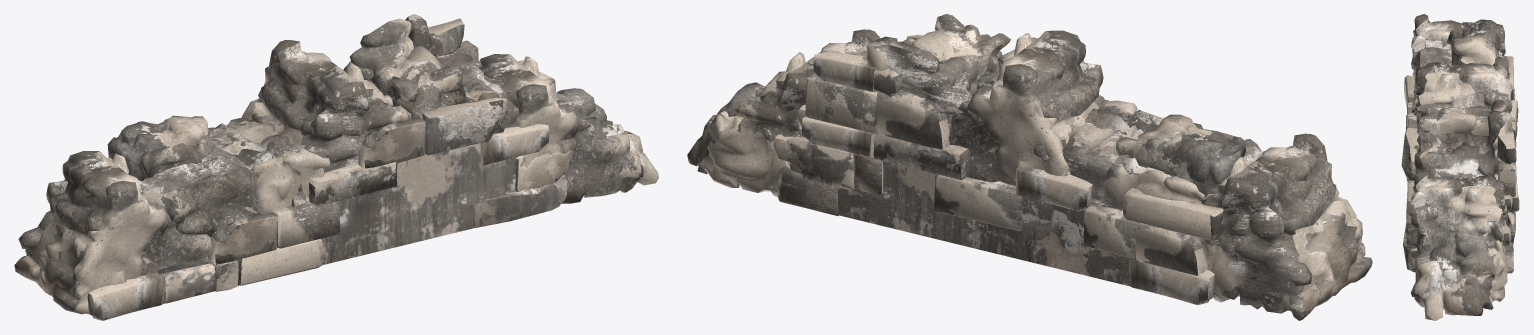
The model's file is SM_Wall_8x8_Broken_01d.fbx.
3 views of the same model, side by side, from view 1: azimuth 30°, elevation 25°; view 2: azimuth 150°, elevation 25°; view 3: azimuth 270°, elevation 25° (orthographic). The views are drawn at different scales.
Visible parts, largest first — view 1: SM_Wall_8x8_Broken_01d; view 2: SM_Wall_8x8_Broken_01d; view 3: SM_Wall_8x8_Broken_01d.
Boxes of the visible parts, <box> form: SM_Wall_8x8_Broken_01d: <box>14,14,658,320</box>; SM_Wall_8x8_Broken_01d: <box>687,14,1372,320</box>; SM_Wall_8x8_Broken_01d: <box>1401,14,1519,320</box>.
Bounding box in the file's own units: 1016 × 296 × 226.
